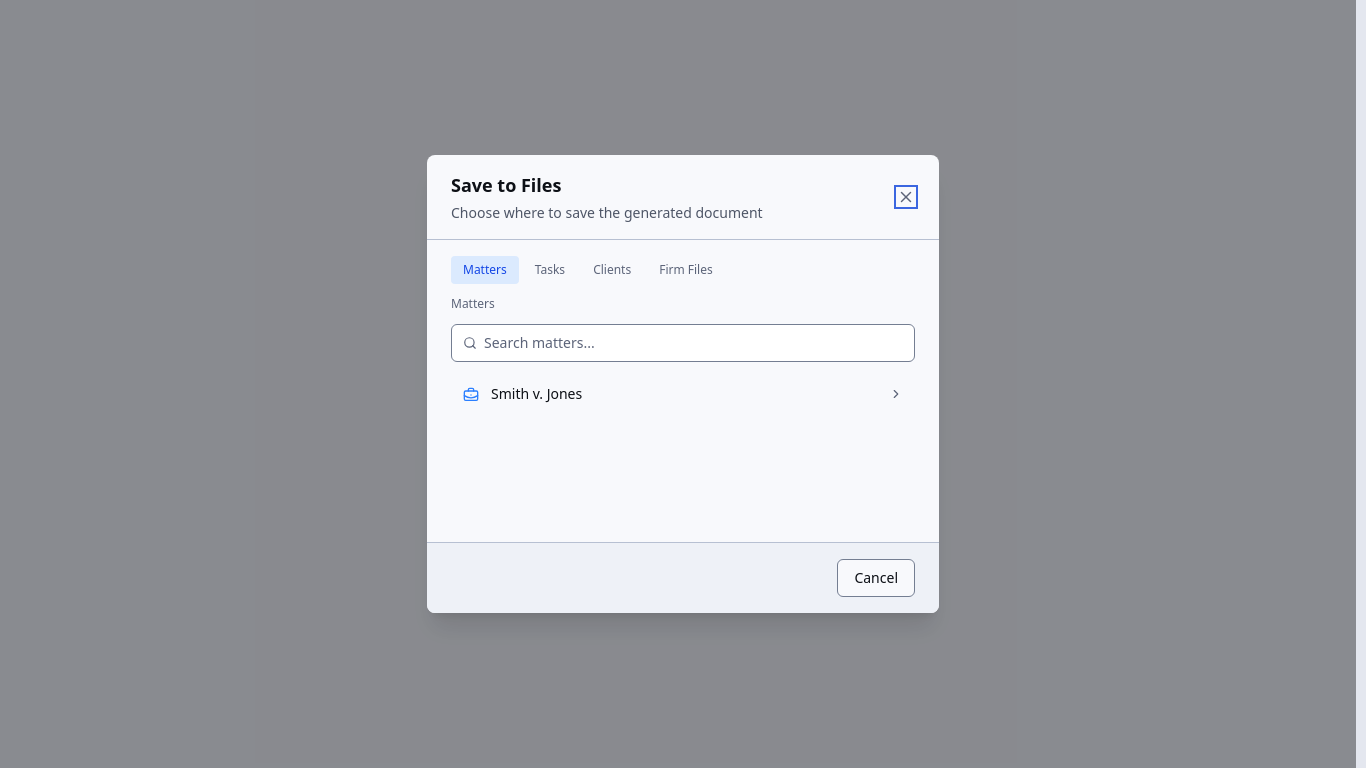
Test: SaveToFilesModal entity lists › notes truncation on the tasks list too
Expected: the text "Smith v. Jones" is shown, [491,384,582,403]
Click the button "Tasks" at (550, 270), box [523,256,577,284]
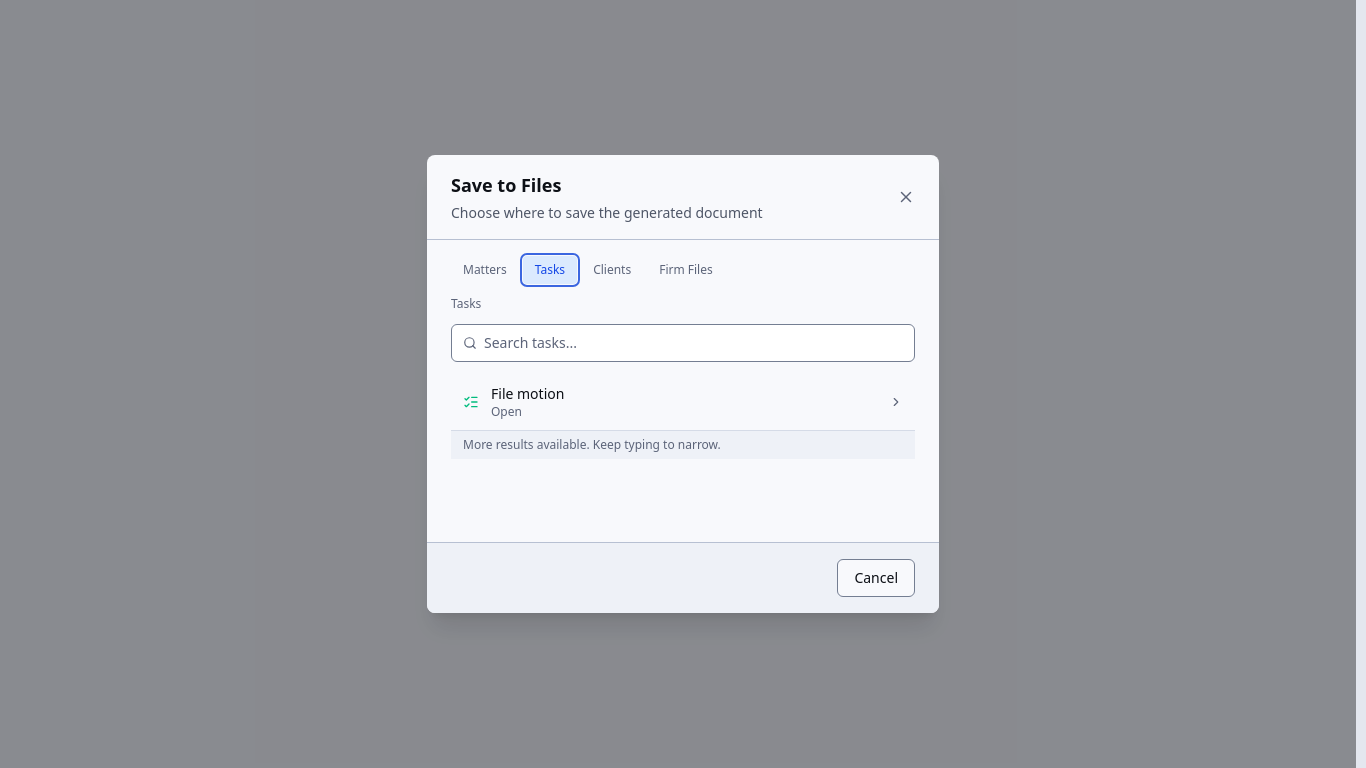
Expected: the text "More results available. Keep typing to narrow." is shown, [451,430,915,459]
